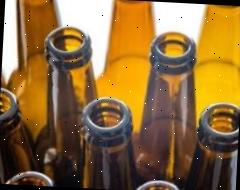glass: (35, 25, 110, 189), (135, 31, 203, 190), (79, 96, 143, 190), (187, 100, 240, 190), (0, 87, 40, 185)
